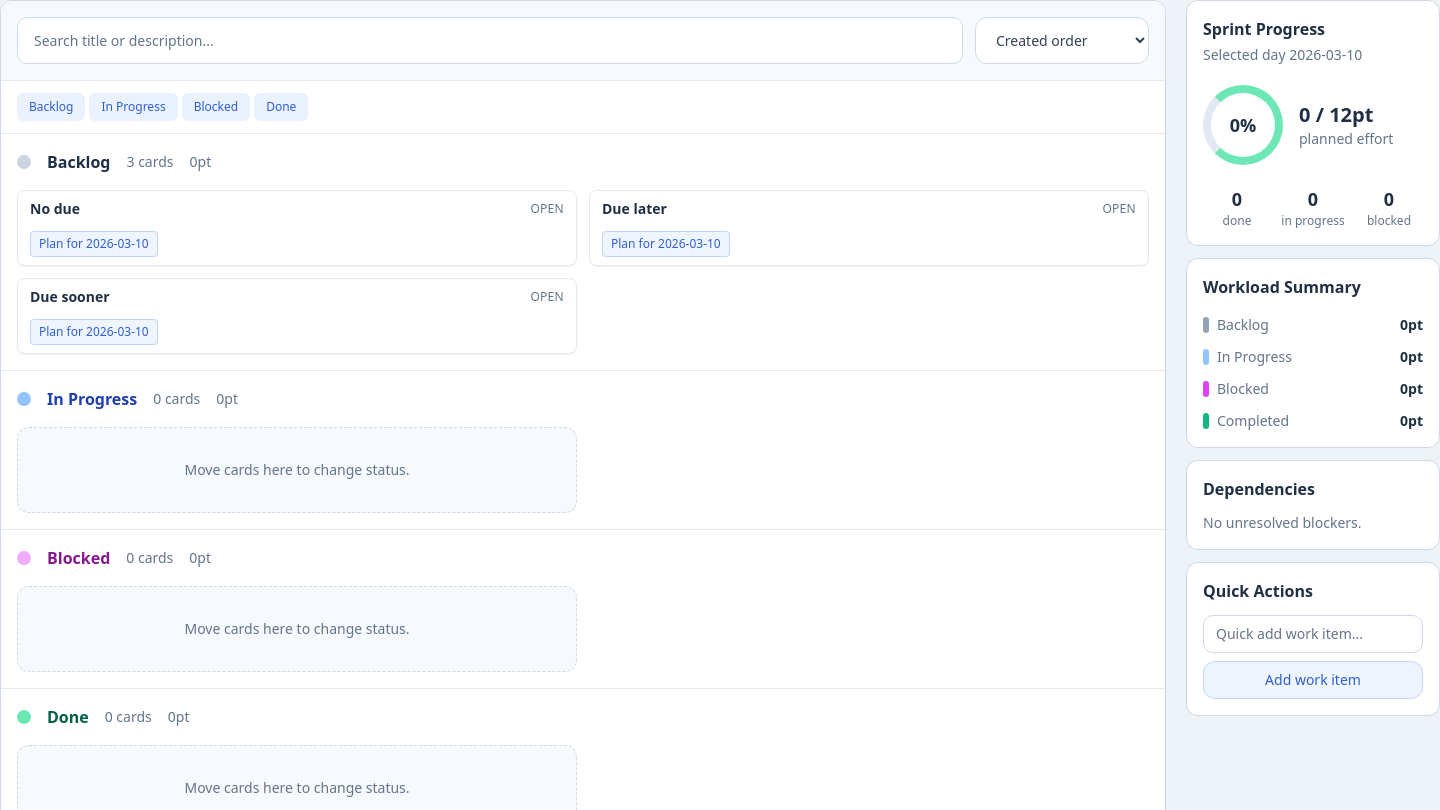
it: KanbanBoard › sorts cards by earliest due date first
Select "Due date: soonest" in the dropdown named "sort cards": (1062, 40) top-left (975, 17), bottom-right (1149, 64)
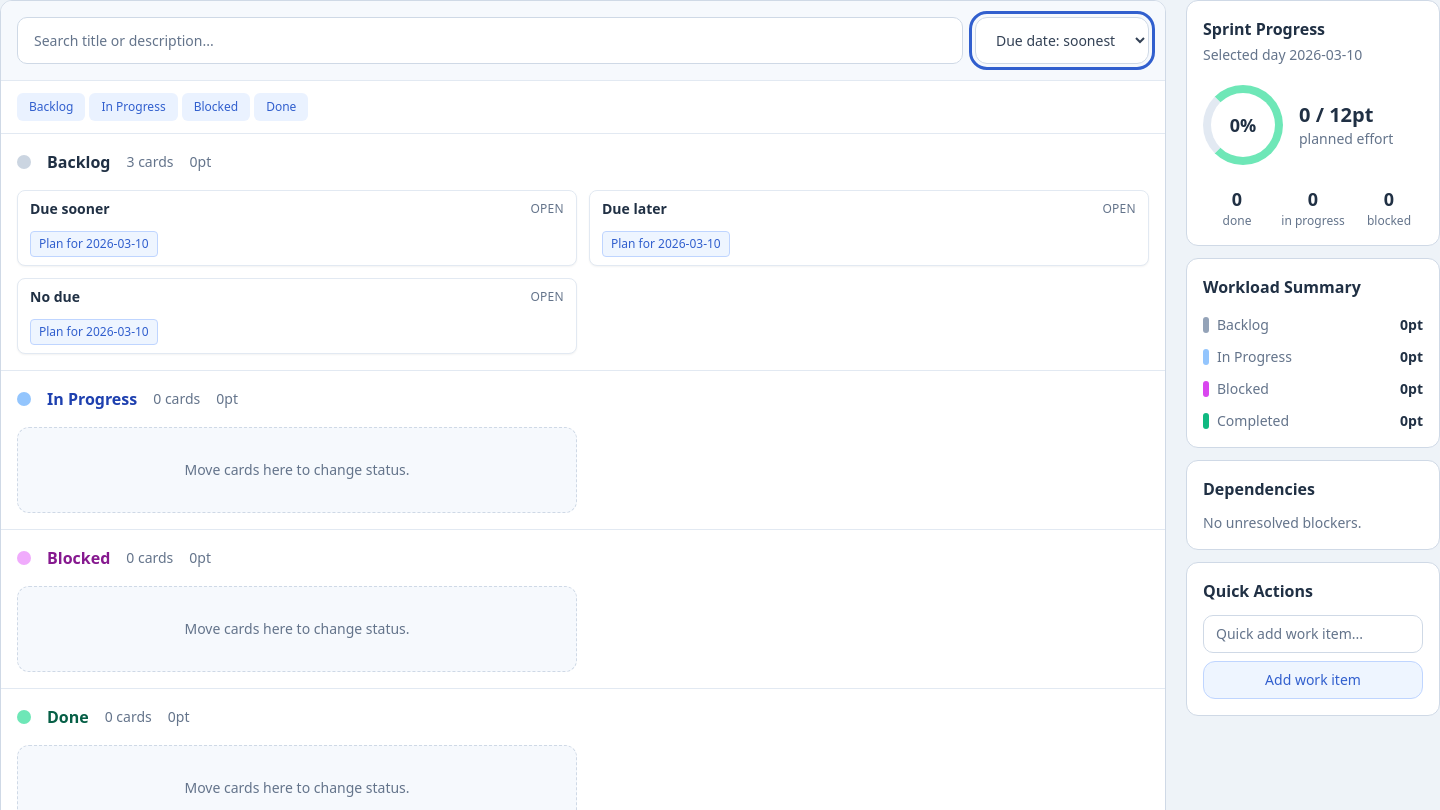
Now the headings read "Due sooner", "Due later", "No due", in this order, box top-left (30, 199), bottom-right (110, 219); top-left (602, 199), bottom-right (667, 219); top-left (30, 287), bottom-right (80, 307)
